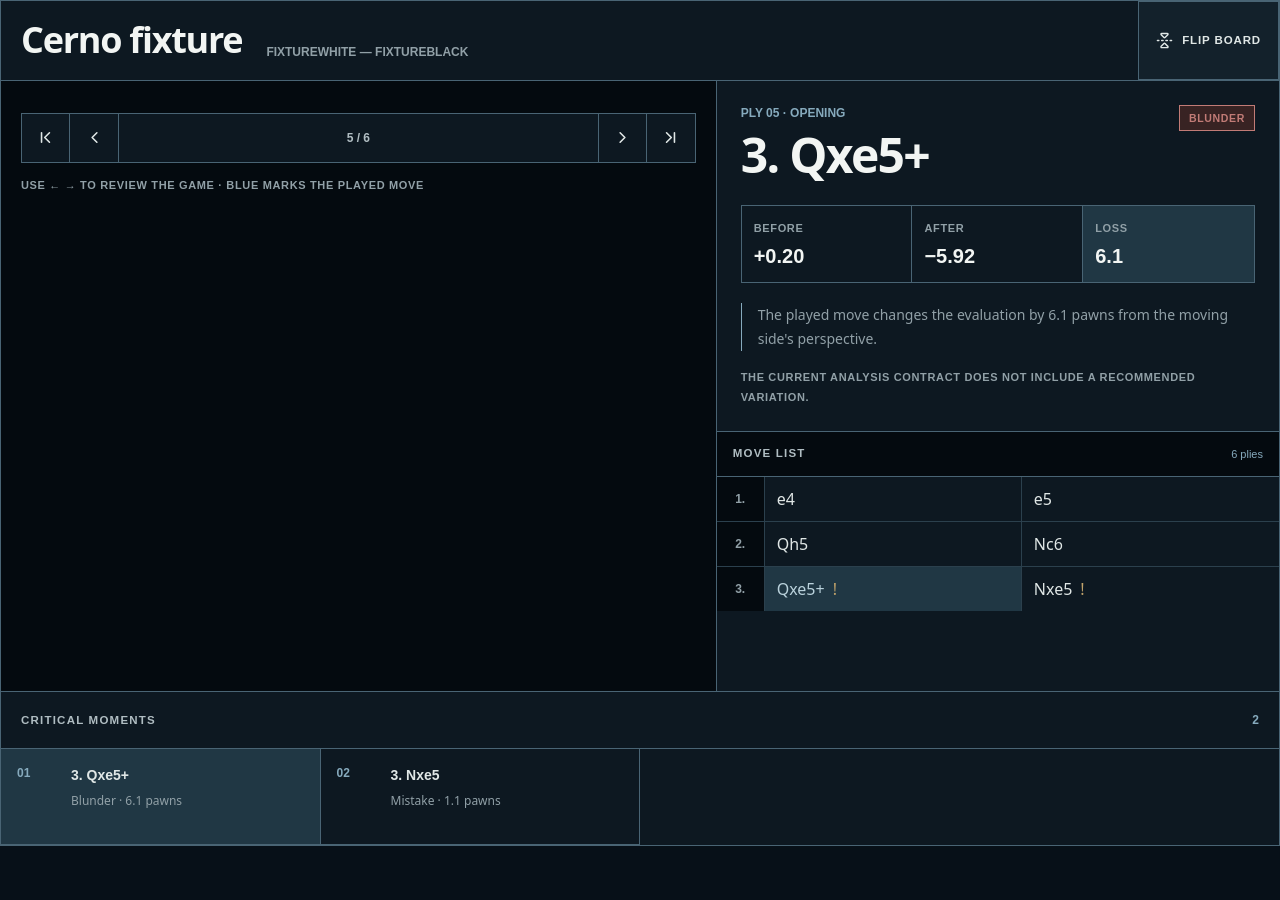
Test: GameViewer navigation › starts at the first critical moment and navigates with every control
expect the message reads "5 / 6": met, box [347,131,370,145]
expect the heading "3. Qxe5+" is shown: met, box [741,129,929,181]
Click the button named "Previous move": (94, 138) [70,114,118,162]
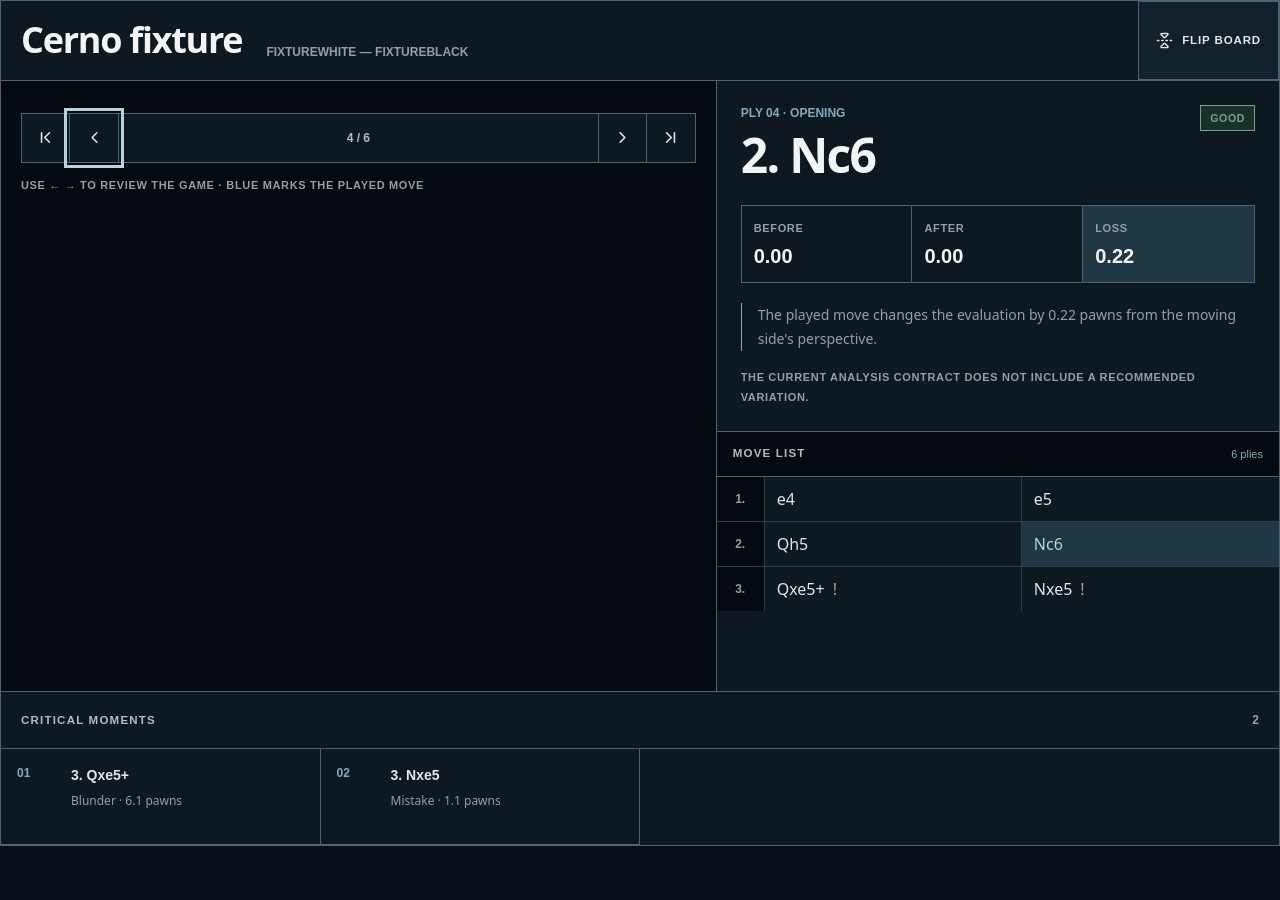
expect the message reads "4 / 6": met, box [347,131,370,145]
Click the button named "Next move": (623, 138) [599,114,647,162]
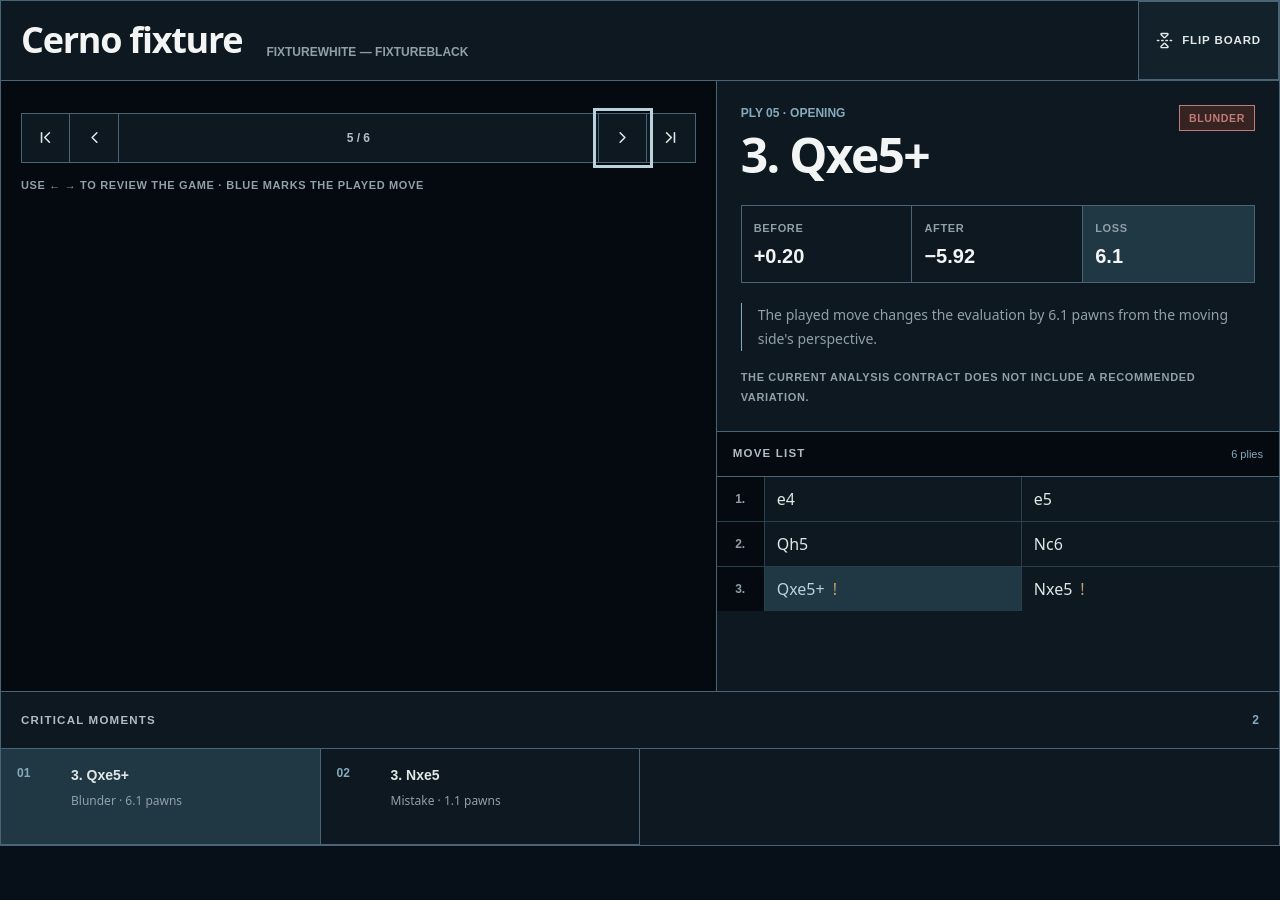
expect the message reads "5 / 6": met, box [347,131,370,145]
Click the button named "Go to start": (46, 138) [22,114,70,162]
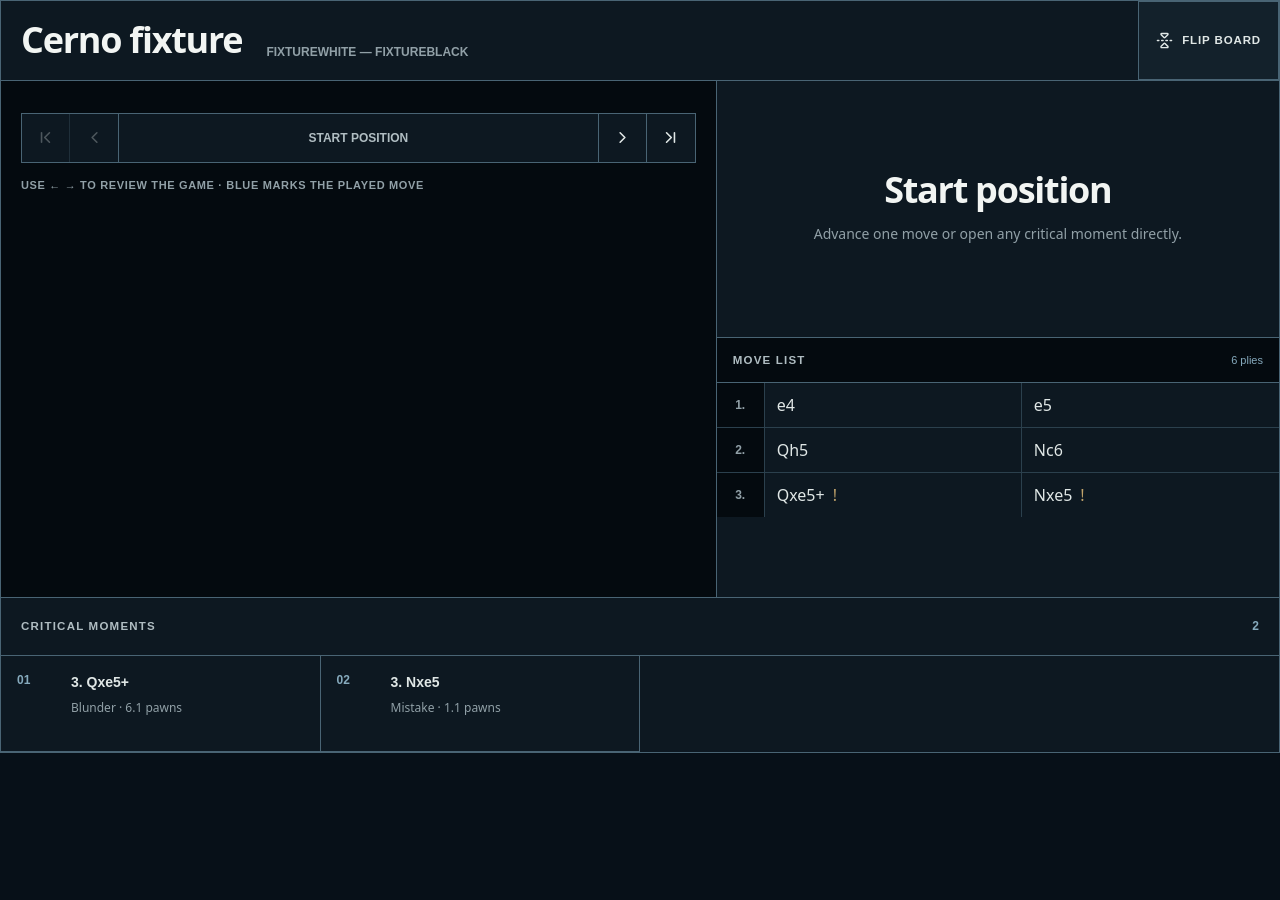
expect the text "START POSITION" is shown: met, box [118,114,599,162]
expect the button named "Previous move" is disabled: met, box [70,114,118,162]
Click the button named "Go to end": (671, 138) [647,114,695,162]
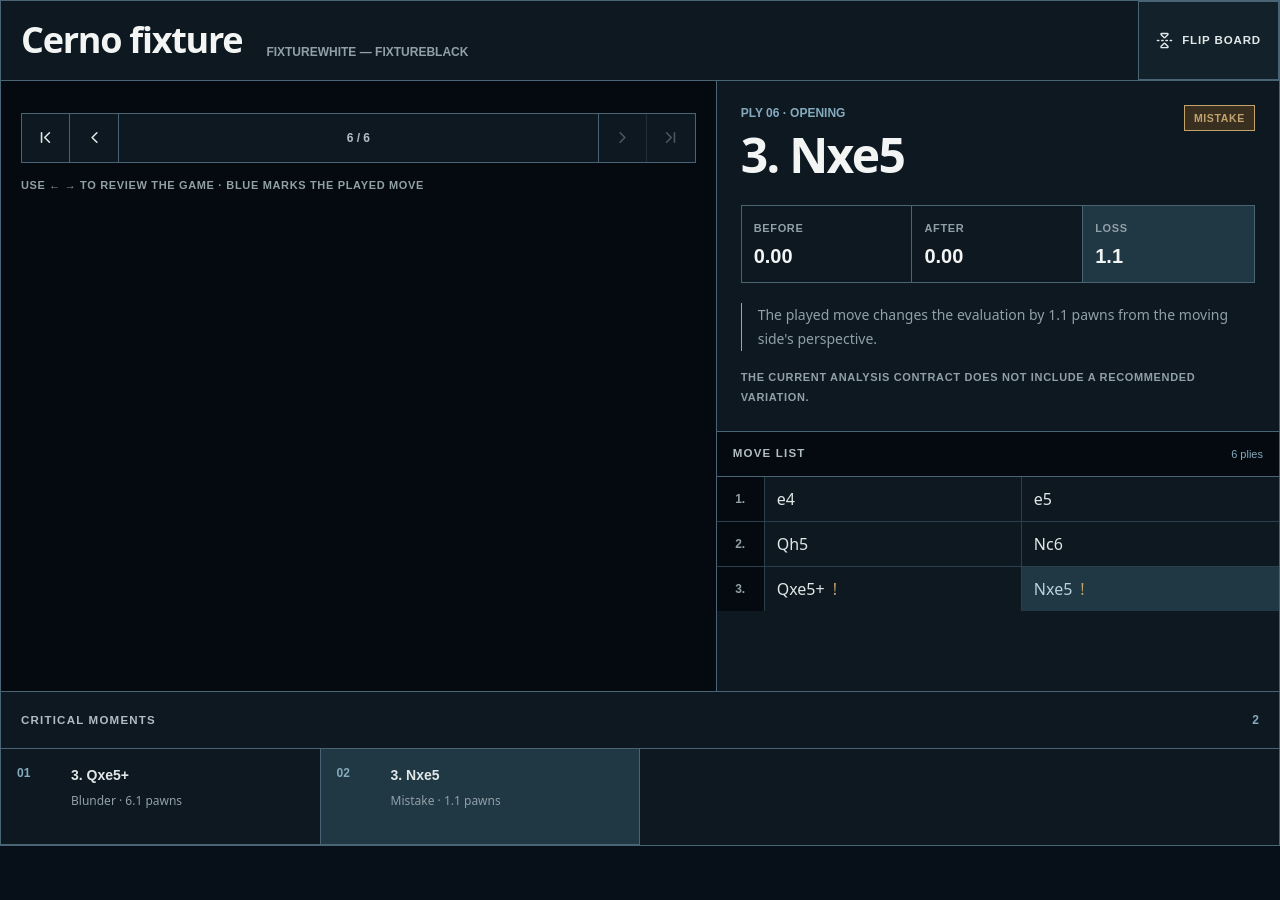
expect the text "6 / 6" is shown: met, box [118,114,599,162]
expect the button named "Next move" is disabled: met, box [599,114,647,162]
